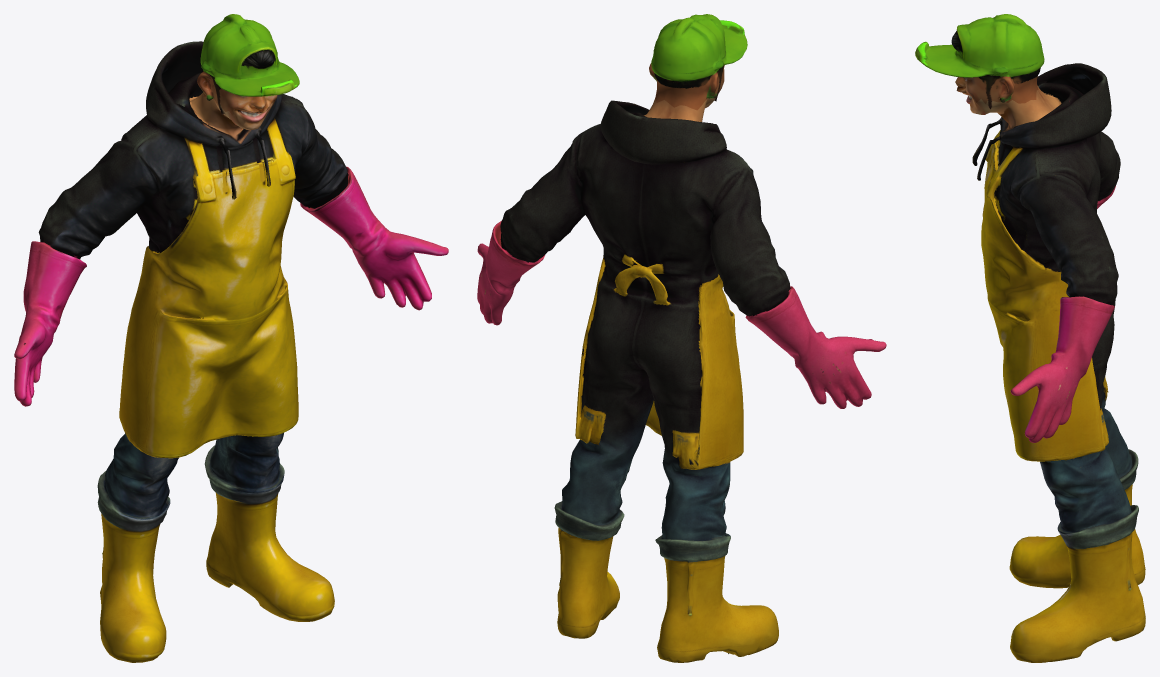
The model's file is diner-patron-dishie_body.glb.
3 renders of one model, left to right at view 1: azimuth 30°, elevation 25°; view 2: azimuth 150°, elevation 25°; view 3: azimuth 270°, elevation 25°, orthographic. The views are drawn at different scales.
Visible parts, largest first — view 1: diner-patron-dishie; view 2: diner-patron-dishie; view 3: diner-patron-dishie.
Boxes of the visible parts, <box> form: diner-patron-dishie: <box>14,14,448,662</box>; diner-patron-dishie: <box>477,14,886,662</box>; diner-patron-dishie: <box>915,14,1145,662</box>.
Bounding box in the file's own units: 1.29 × 1.79 × 0.6221.
Materials: 2 (2 with a texture image).
